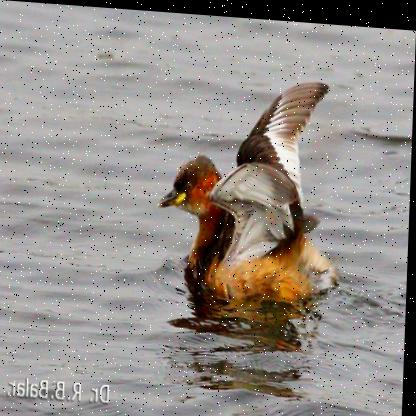Burung: (155, 67, 348, 310)
